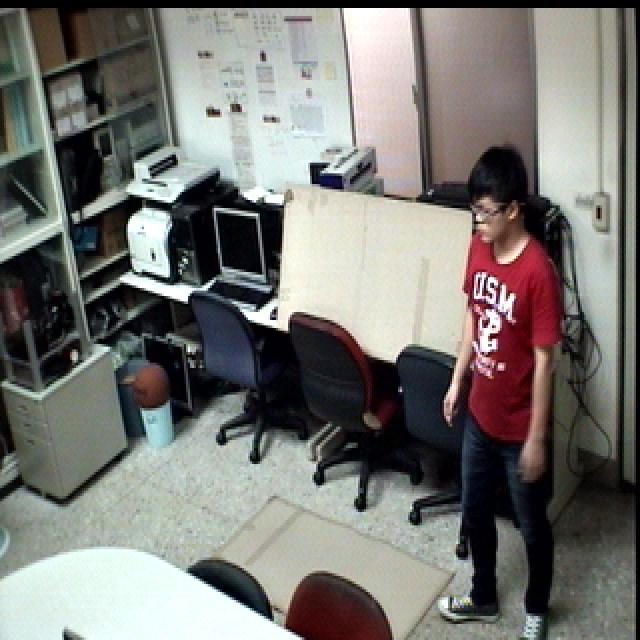stand: (432, 128, 566, 640)
